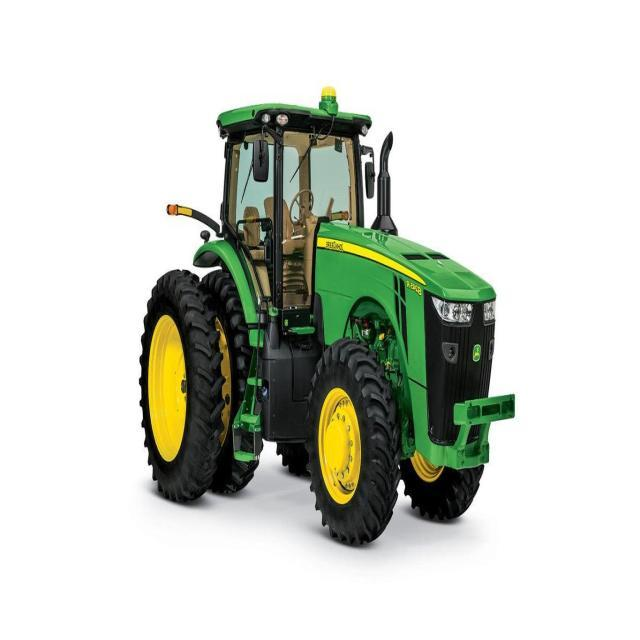Tratores - v5 YOLO V8L 2024-11-13: (124, 77, 508, 560)
